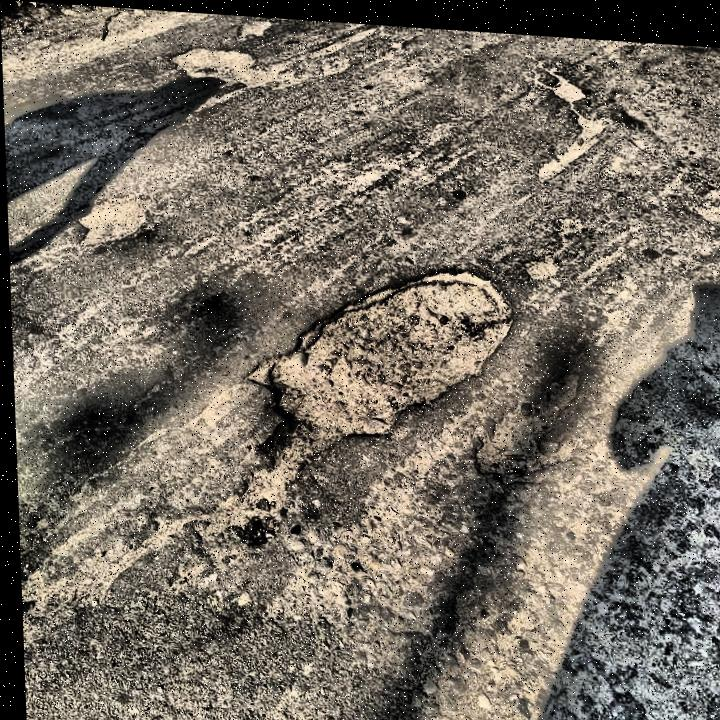pothole: (219, 246, 517, 517), (64, 186, 156, 250), (169, 40, 270, 93), (236, 12, 273, 38)
